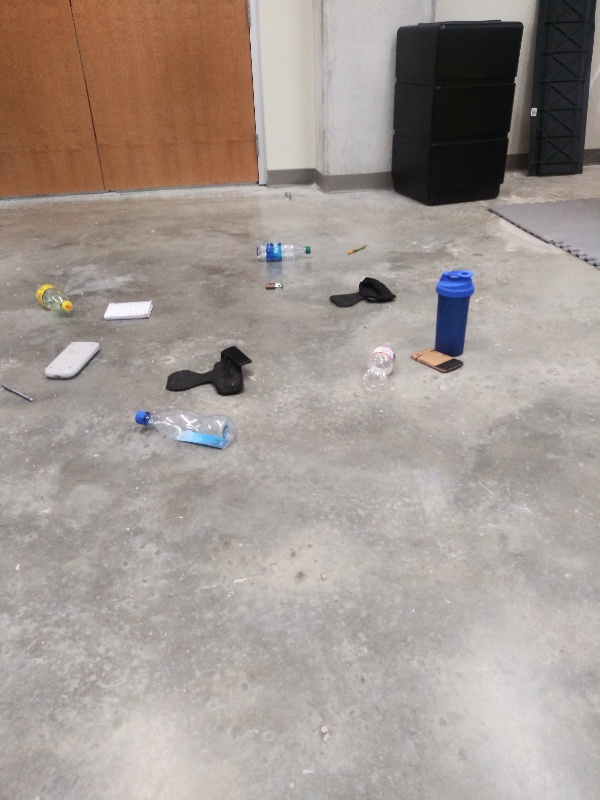bottle: (132, 406, 240, 455), (359, 337, 402, 397), (25, 278, 78, 318), (250, 239, 320, 263)
